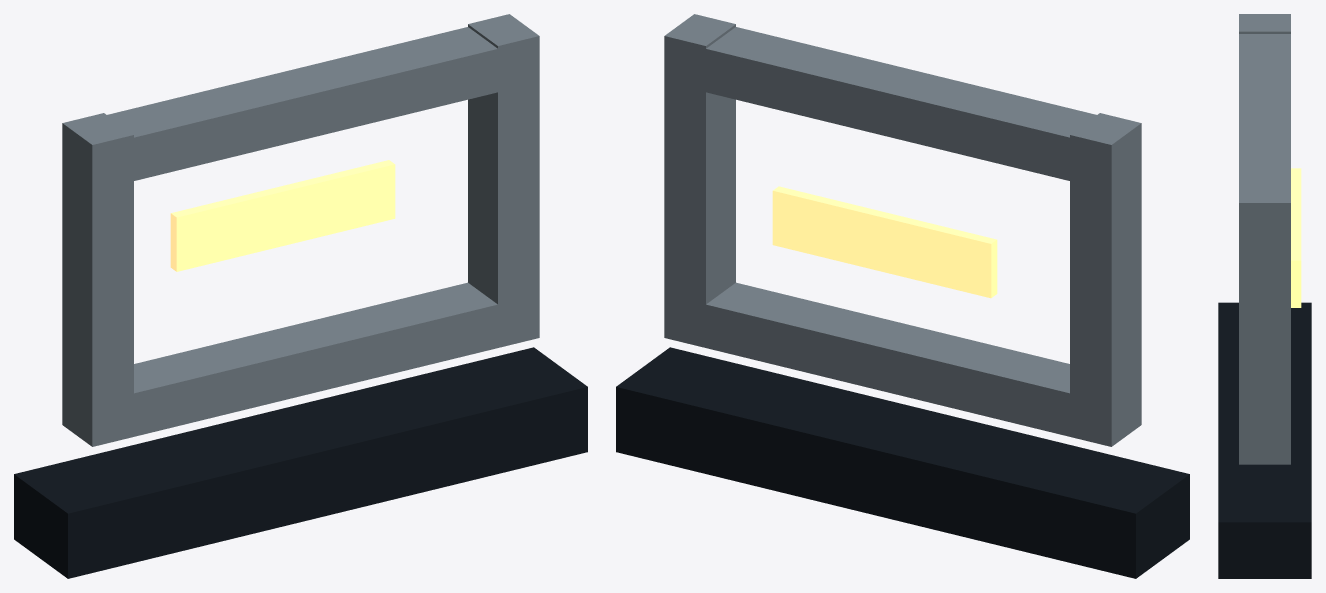
Rendered from np_z03_confinement_barriere.glb.
3 views of the same model, side by side, from view 1: azimuth 30°, elevation 25°; view 2: azimuth 150°, elevation 25°; view 3: azimuth 270°, elevation 25° (orthographic). The views are drawn at different scales.
Visible parts, largest first — view 1: Pied, CadreBas, CadreHaut, MontantDroit, MontantGauche, Marqueur; view 2: Pied, CadreHaut, CadreBas, MontantGauche, MontantDroit, Marqueur; view 3: Pied, MontantDroit, CadreHaut, CadreBas, Marqueur, MontantGauche.
Part boxes in pixels (bbox=[...]): Pied: bbox=[14, 347, 587, 578]; CadreBas: bbox=[62, 282, 539, 446]; CadreHaut: bbox=[62, 27, 526, 191]; MontantDroit: bbox=[468, 14, 539, 342]; MontantGauche: bbox=[62, 113, 133, 443]; Marqueur: bbox=[170, 160, 395, 271]; Pied: bbox=[616, 347, 1189, 578]; CadreHaut: bbox=[664, 27, 1141, 190]; CadreBas: bbox=[664, 282, 1141, 446]; MontantGauche: bbox=[1070, 113, 1141, 444]; MontantDroit: bbox=[664, 14, 735, 341]; Marqueur: bbox=[772, 186, 997, 298]; Pied: bbox=[1218, 302, 1311, 578]; MontantDroit: bbox=[1239, 185, 1290, 461]; CadreHaut: bbox=[1239, 34, 1290, 242]; CadreBas: bbox=[1239, 427, 1290, 464]; Marqueur: bbox=[1291, 168, 1301, 307]; MontantGauche: bbox=[1239, 14, 1290, 33].
Size of the model in its own units: 1 by 0.765 by 0.18.
